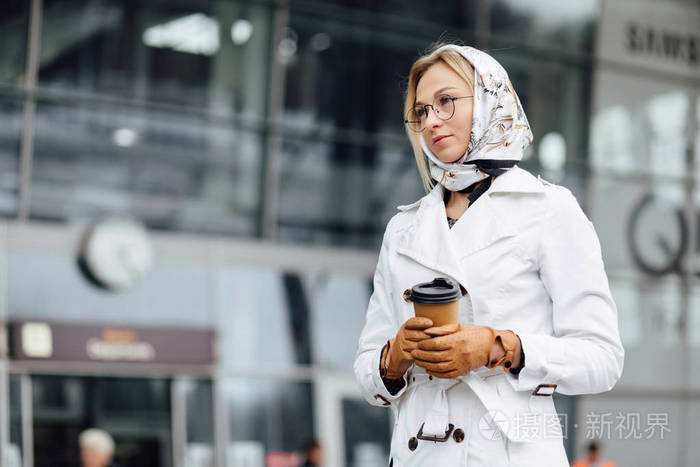no-phone: (383, 274, 514, 380)
